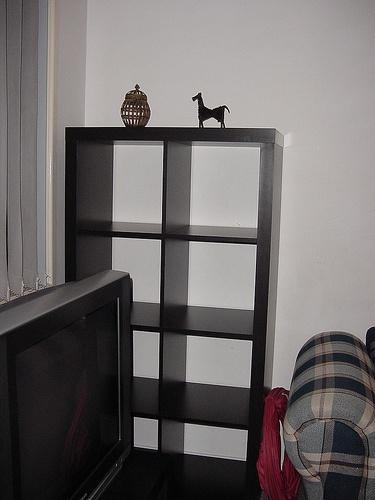sofa: (284, 323, 375, 500)
tvmonitor: (1, 270, 133, 500)
